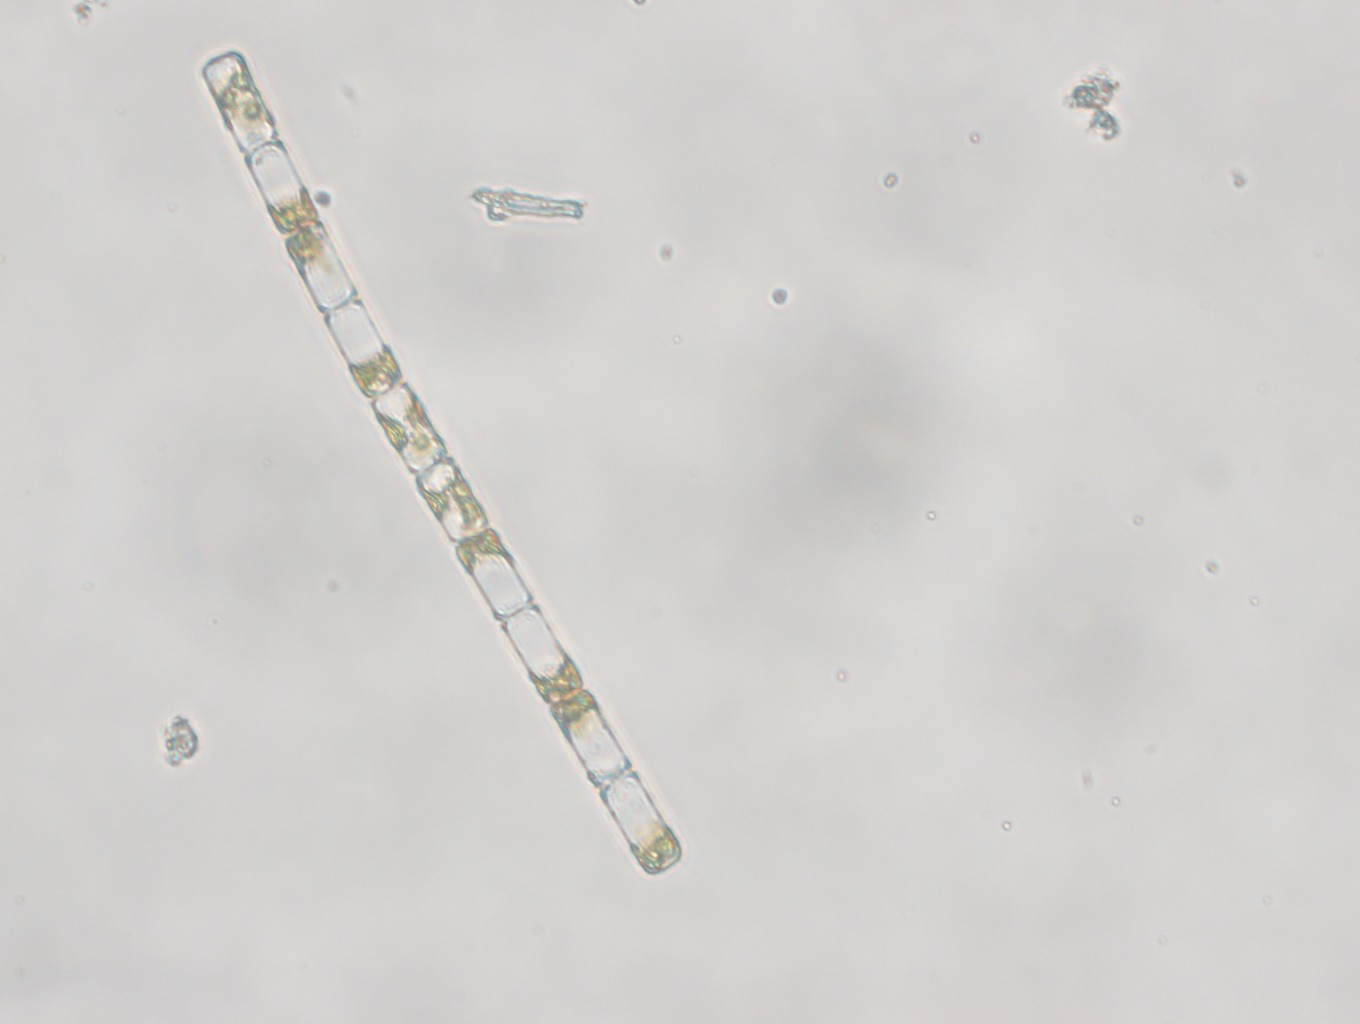guinardia flaccida: (200, 42, 688, 881)
